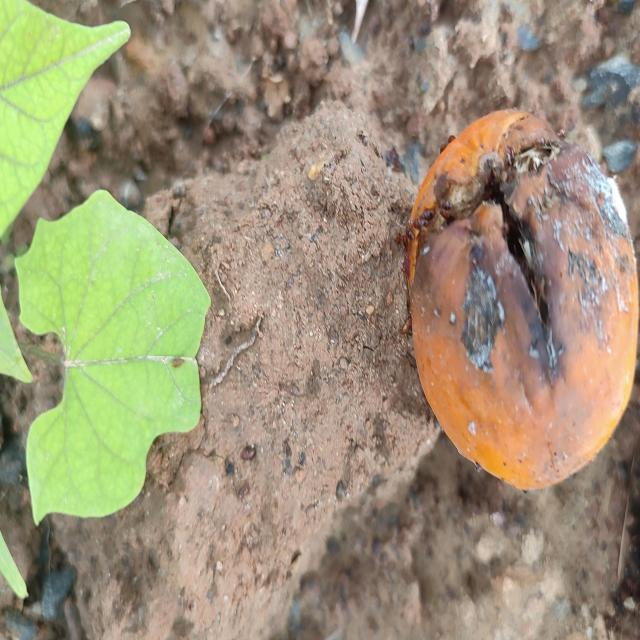damaged: (402, 110, 638, 489)
